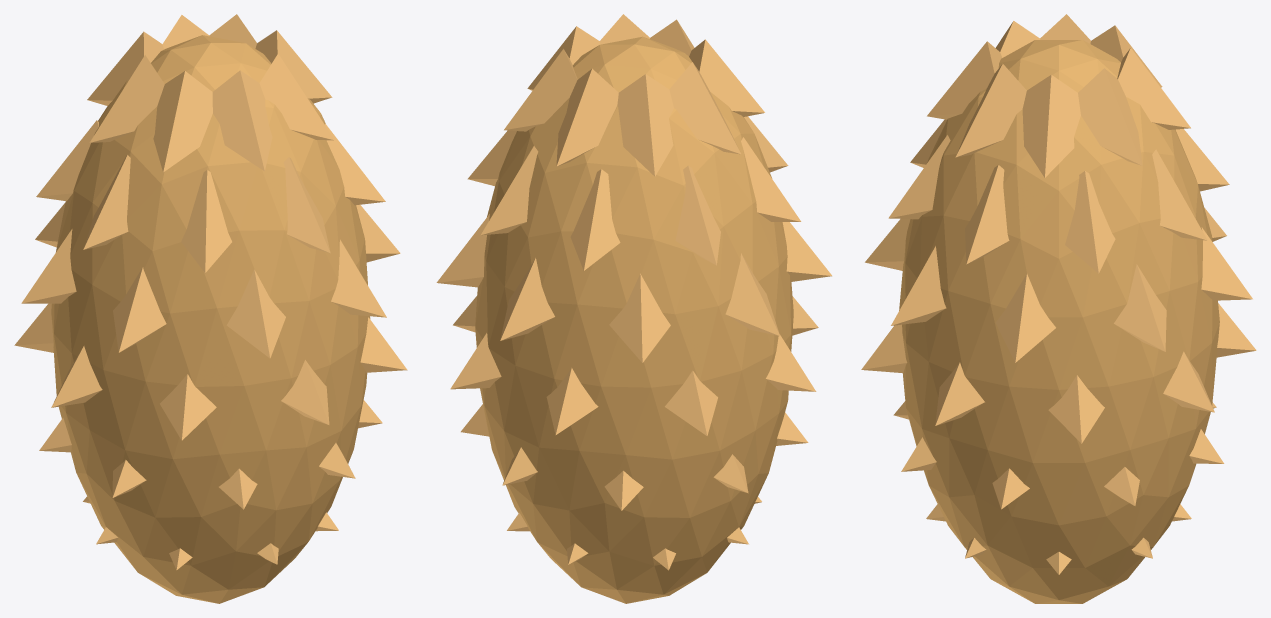
Rendered from xmas_pinecone.glb.
3 renders of one model, left to right at view 1: azimuth 30°, elevation 25°; view 2: azimuth 150°, elevation 25°; view 3: azimuth 270°, elevation 25°, orthographic.
Parts seen in each view (by area): view 1: Pinecone; view 2: Pinecone; view 3: Pinecone.
Boxes of the visible parts, x1=… form: Pinecone: x1=14, y1=14, x2=407, y2=603; Pinecone: x1=436, y1=14, x2=831, y2=603; Pinecone: x1=861, y1=14, x2=1256, y2=603.
Size of the model in its own units: 1.23 by 1.9 by 1.23.
